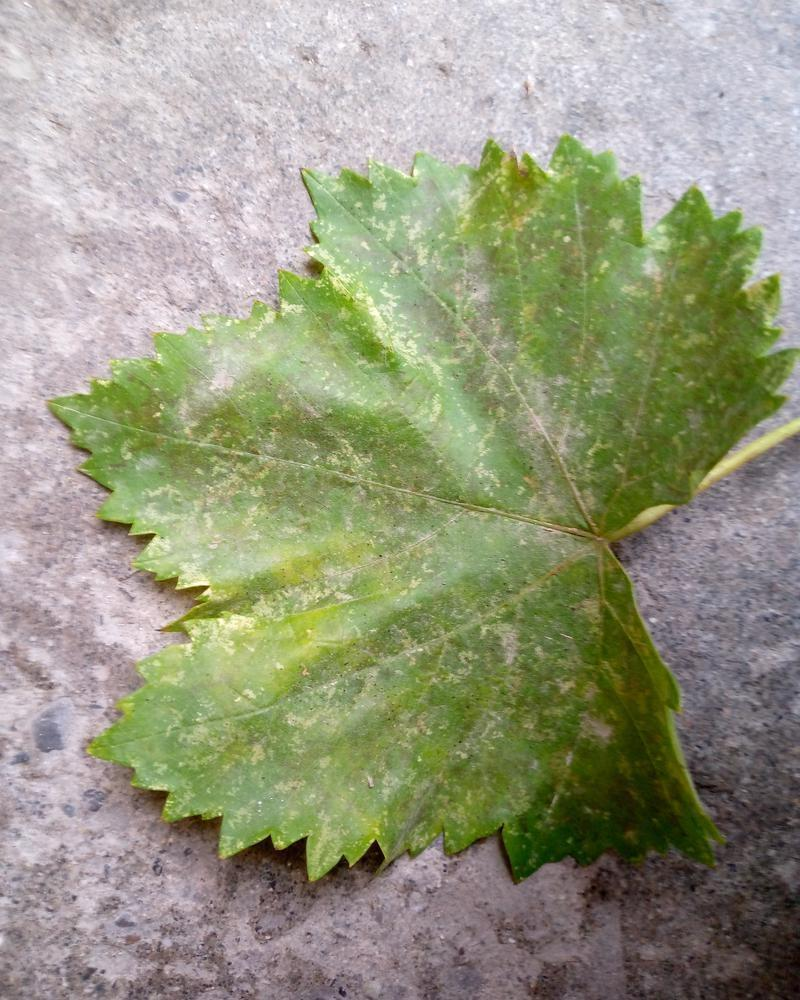Powdery-Mildew: (375, 176, 580, 447), (101, 325, 287, 582), (171, 659, 414, 825), (488, 595, 646, 746), (572, 205, 723, 358), (189, 562, 362, 678), (447, 456, 599, 572), (314, 234, 425, 366)
